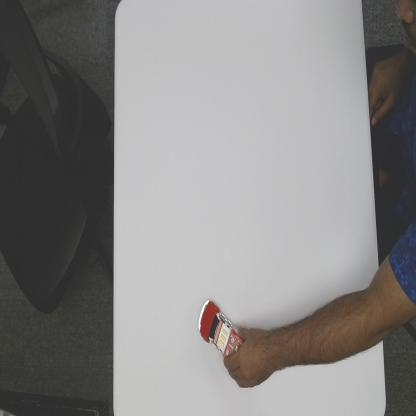Arm: (275, 260, 389, 374)
Firetruck: (197, 299, 243, 355)
Hand: (223, 326, 274, 390)
